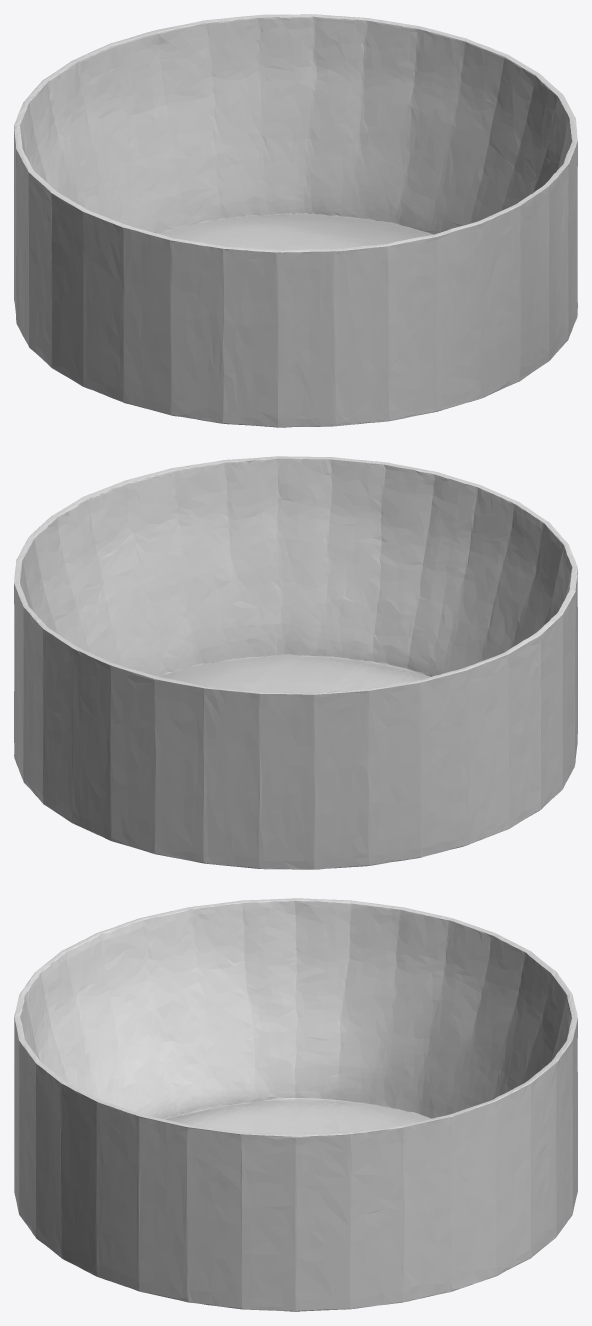
The model's file is f1ca9b63-5222-46bd-adf8-6c0c332e1d8e.glb.
3 renders of one model, top to bottom at view 1: azimuth 30°, elevation 25°; view 2: azimuth 150°, elevation 25°; view 3: azimuth 270°, elevation 25°, orthographic.
Visible parts, largest first — view 1: world; view 2: world; view 3: world.
Part boxes in pixels (x1=…): world: x1=14, y1=14, x2=577, y2=427; world: x1=14, y1=456, x2=577, y2=869; world: x1=14, y1=898, x2=577, y2=1311.
Bounding box in the file's own units: 1 × 0.3598 × 1.
1 material, 1 textured.
